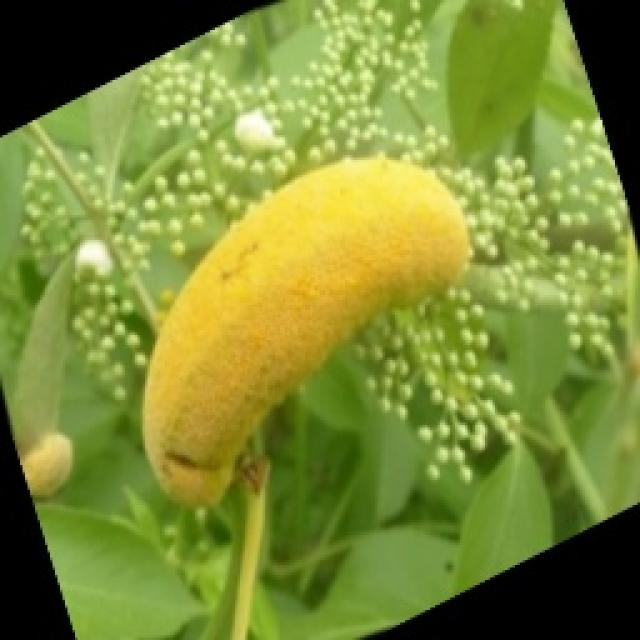Elderberry_rust: (138, 150, 472, 510)
